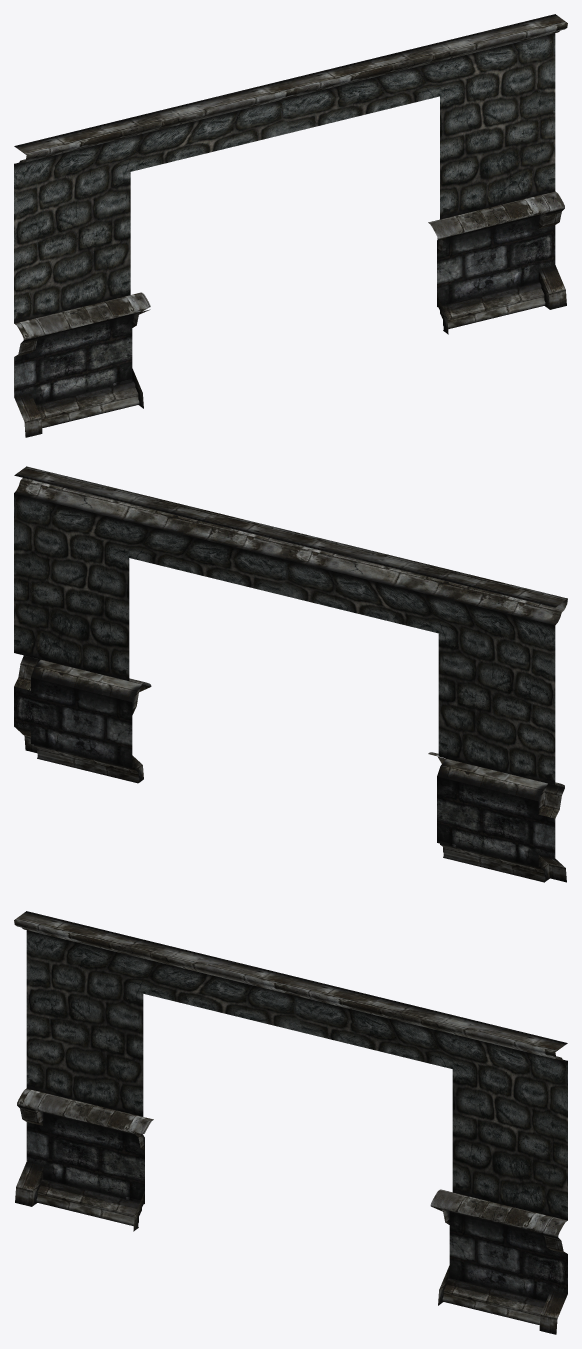
Rendered from door_way_large.dae.
3 views of the same model, one above another, from view 1: azimuth 30°, elevation 25°; view 2: azimuth 150°, elevation 25°; view 3: azimuth 330°, elevation 25° (orthographic).
Visible parts, largest first — view 1: polySurface132; view 2: polySurface132; view 3: polySurface132.
Part boxes in pixels (left/top/right/bottom): polySurface132: left=14, top=14, right=567, bottom=437; polySurface132: left=14, top=466, right=567, bottom=882; polySurface132: left=14, top=911, right=567, bottom=1334.
Bounding box in the file's own units: 8 × 4 × 0.3219.
